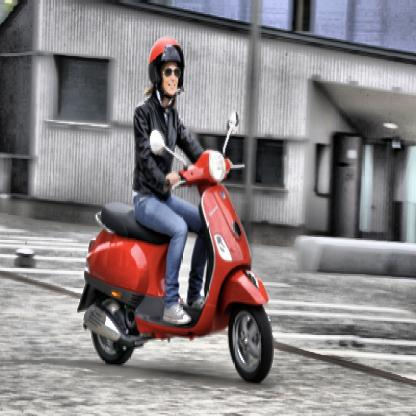wear: (148, 34, 182, 94)
